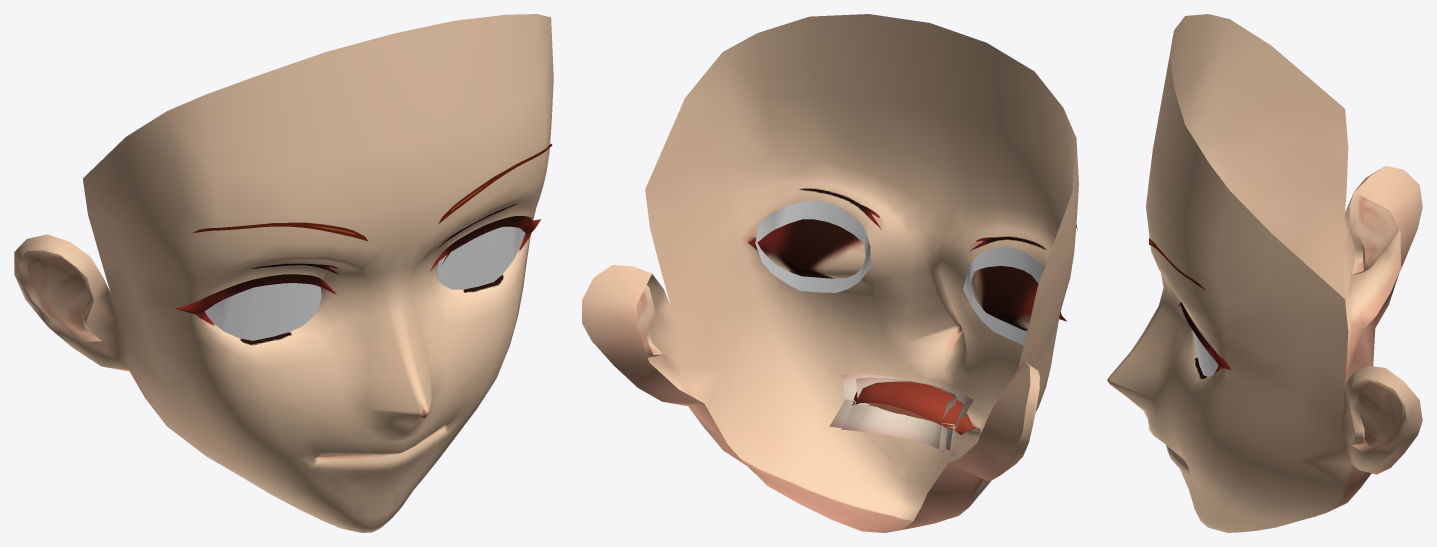
Rendered from Hinata.fbx.
3 views of the same model, side by side, from view 1: azimuth 30°, elevation 25°; view 2: azimuth 150°, elevation 25°; view 3: azimuth 270°, elevation 25° (orthographic). The views are drawn at different scales.
Visible parts, largest first — view 1: M_Head, M_Eye_B_Def, M_Mth_B_Def, M_PupALL_R_A_Def, M_PupALL_L_A_Def, M_Brw_B_Def; view 2: M_Head, M_Eye_B_Def, M_Mth_B_Def, M_PupALL_L_A_Def, M_PupALL_R_A_Def; view 3: M_Head, M_Eye_B_Def, M_Mth_B_Def, M_PupALL_L_A_Def.
Boxes of the visible parts, x1,y1,x2,y2 form: M_Head: (14,14,553,403); M_Eye_B_Def: (136,121,551,418); M_Mth_B_Def: (129,357,504,532); M_PupALL_R_A_Def: (205,283,321,340); M_PupALL_L_A_Def: (436,226,525,289); M_Brw_B_Def: (193,144,552,241); M_Head: (582,14,1078,481); M_Eye_B_Def: (694,129,1076,410); M_Mth_B_Def: (688,327,1037,532); M_PupALL_L_A_Def: (755,200,871,292); M_PupALL_R_A_Def: (963,247,1043,344); M_Head: (1146,14,1422,474); M_Eye_B_Def: (1107,104,1264,455); M_Mth_B_Def: (1108,319,1375,532); M_PupALL_L_A_Def: (1192,330,1218,376).
Bounding box in the file's own units: 0.1737 × 0.1757 × 0.1062.
Materials: 5 (3 with a texture image).
